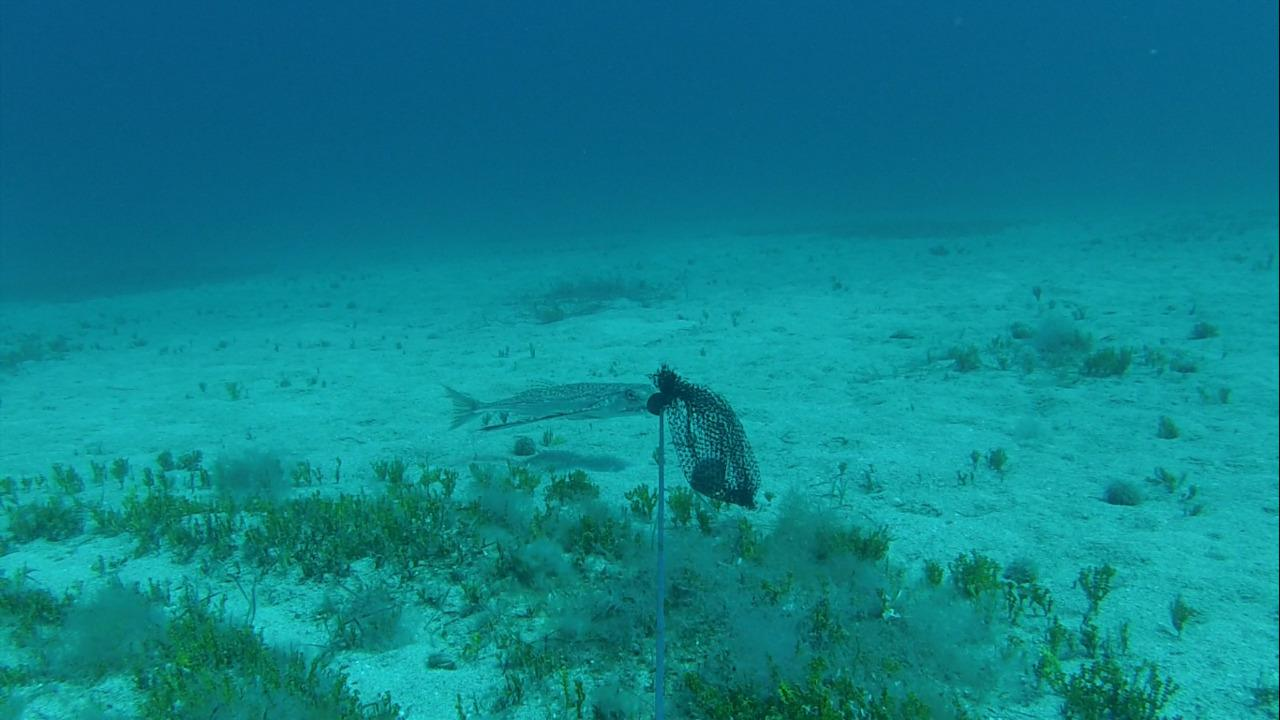dactylopterus: (431, 378, 648, 436)
